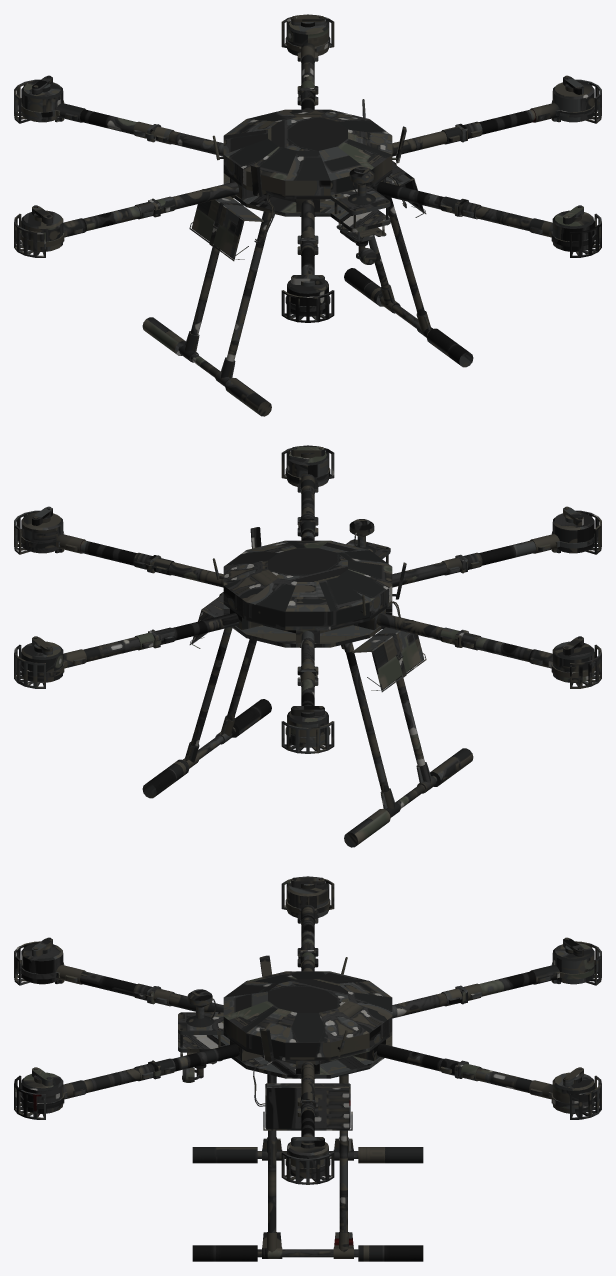
File: heavy_bomber_drone.obj
3 renders of one model, top to bottom at view 1: azimuth 30°, elevation 25°; view 2: azimuth 150°, elevation 25°; view 3: azimuth 270°, elevation 25°, orthographic.
Bounding box in the file's own units: 4.13 × 1.49 × 3.62.
